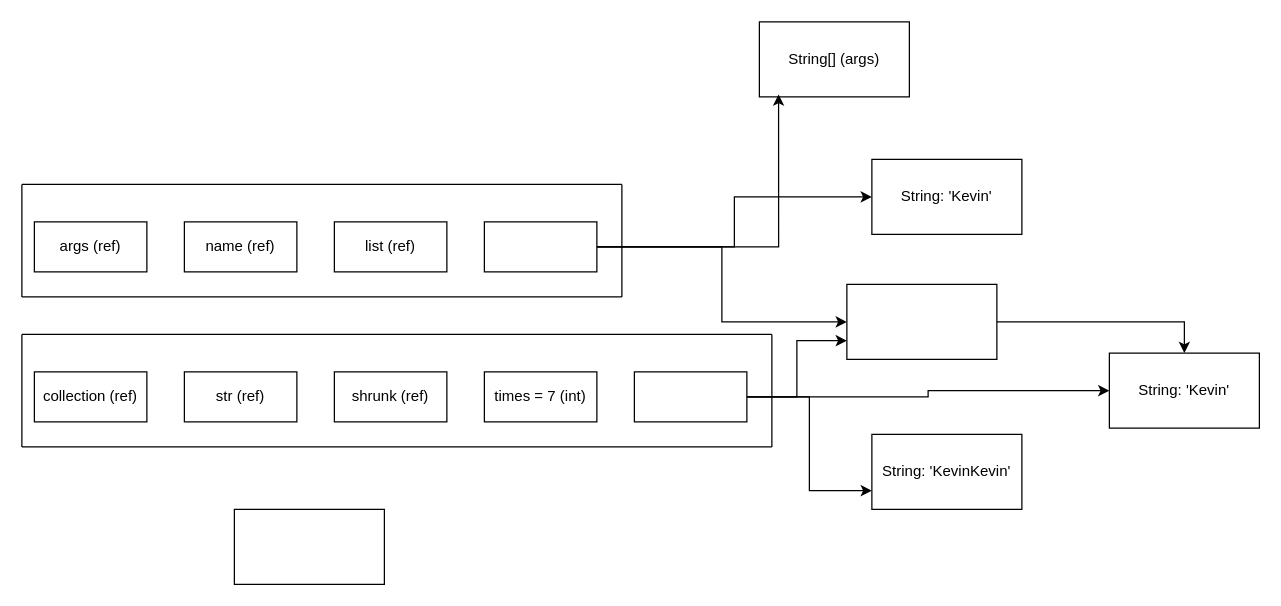
Some shapes in this 1281 by 606 pixel diagram are drawn without their labels. Each missing label, with the box of its shape:
ArrayList: (846, 283, 997, 359)
char[]: ['K', 'v','n','e','i'] (Unreferenced): (233, 508, 384, 584)
i = 3(int): (633, 371, 747, 422)
times = 10 (int): (483, 221, 597, 272)
